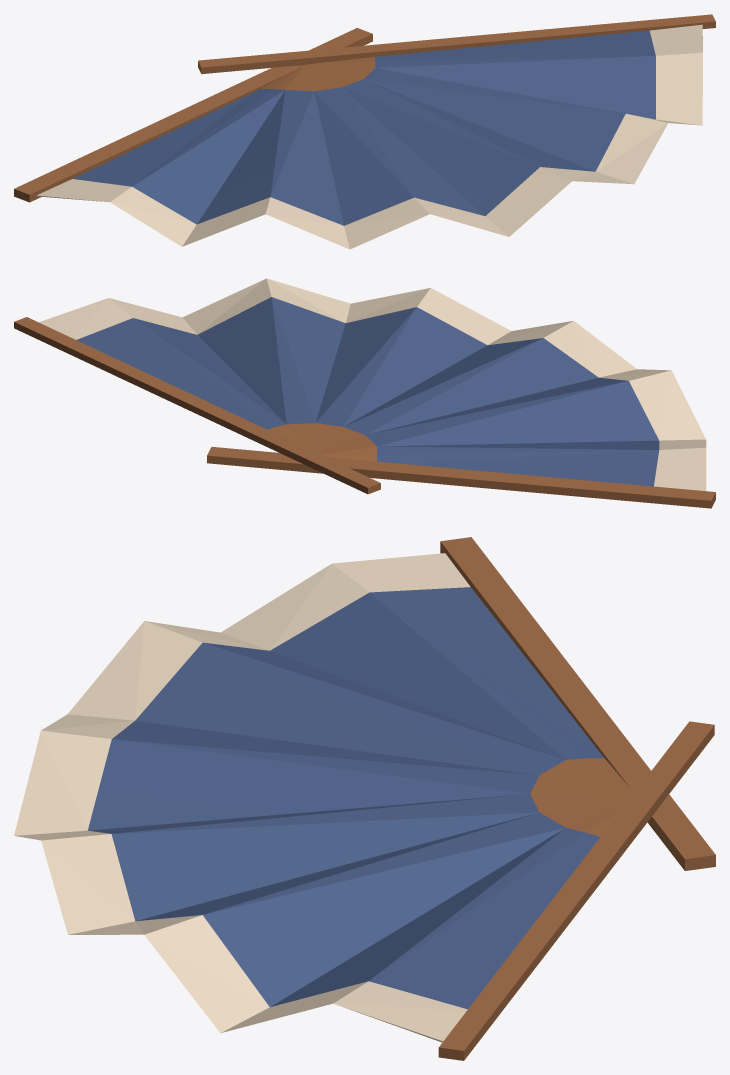
File: Fan_1.glb
3 renders of one model, top to bottom at view 1: azimuth 30°, elevation 25°; view 2: azimuth 150°, elevation 25°; view 3: azimuth 270°, elevation 25°, orthographic. The views are drawn at different scales.
Visible parts, largest first — view 1: Fan_1; view 2: Fan_1; view 3: Fan_1.
Boxes of the visible parts, box(x1,y1,x2,y2) form: Fan_1: box(14, 14, 715, 249); Fan_1: box(14, 278, 715, 508); Fan_1: box(14, 537, 715, 1060).
Bounding box in the file's own units: 0.3313 × 0.0195 × 0.1876.
